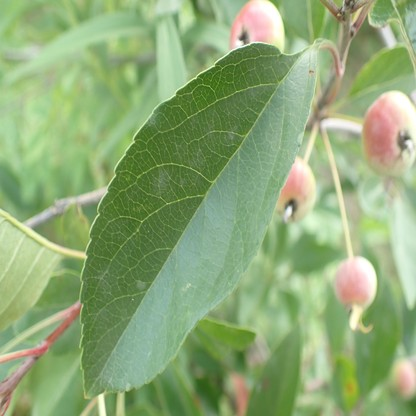powdery_mildew: (153, 166, 169, 194), (227, 126, 237, 142), (147, 112, 157, 126), (136, 281, 147, 290), (297, 132, 303, 142)
